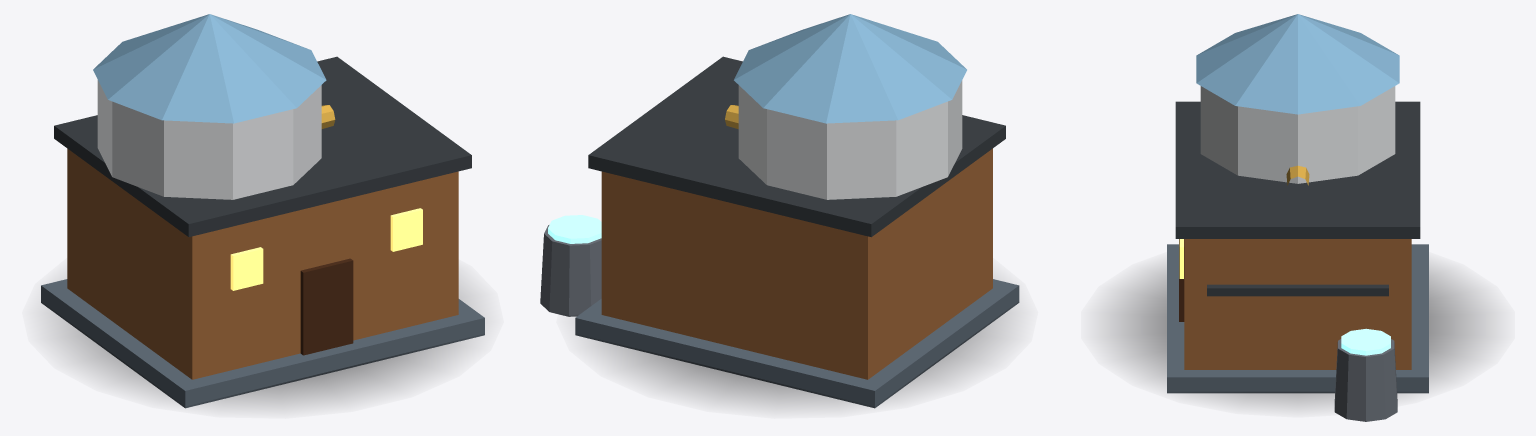
File: lab_t0.glb
3 renders of one model, left to right at view 1: azimuth 30°, elevation 25°; view 2: azimuth 150°, elevation 25°; view 3: azimuth 270°, elevation 25°, orthographic. The views are drawn at different scales.
Parts seen in each view (by area): view 1: lab_t0; view 2: lab_t0; view 3: lab_t0.
Part boxes in pixels (box(x1,y1,x2,y2)): lab_t0: box(41, 14, 484, 408); lab_t0: box(540, 14, 1019, 408); lab_t0: box(1108, 14, 1487, 421).
Bounding box in the file's own units: 5.18 × 3.65 × 5.12.
